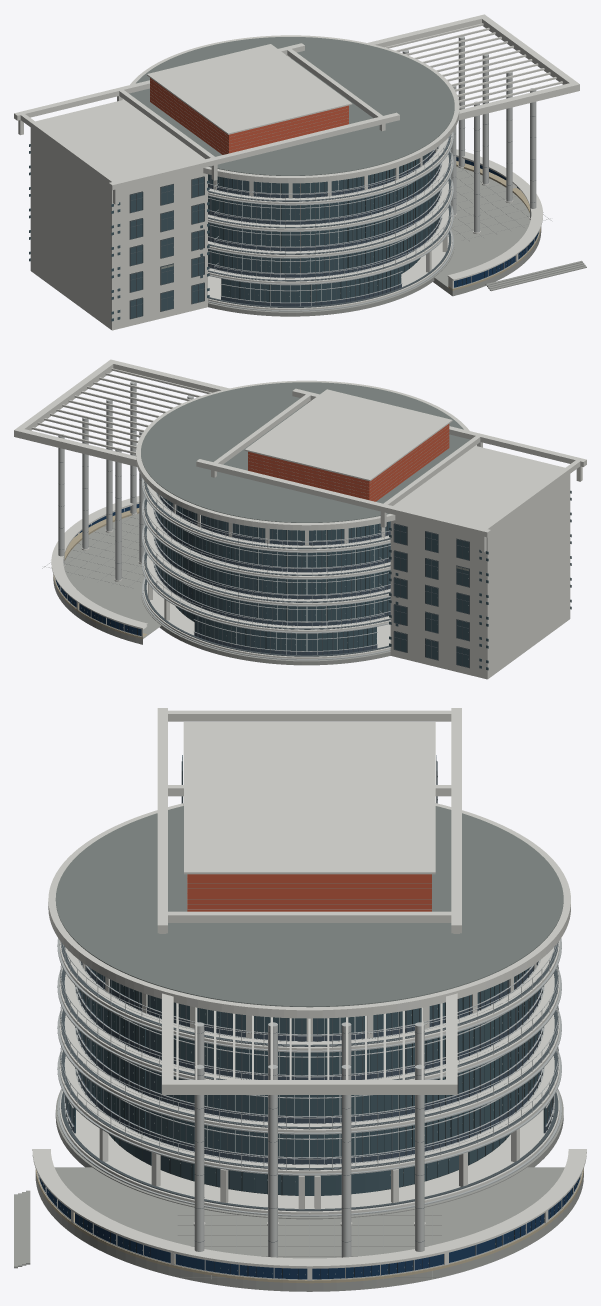
Rendered from osm_way_224950590.glb.
The picture shows the model from 3 angles, top to bottom: view 1: azimuth 30°, elevation 25°; view 2: azimuth 150°, elevation 25°; view 3: azimuth 270°, elevation 25°; orthographic projection. The views are drawn at different scales.
Parts seen in each view (by area): view 1: Round hall | curved plinth drum and tall colonnade, Round hall | continuous segmented curtain wall, Round hall | fine frames cornices and column joints, EXTERIOR::osm_way_224950590::native pane seals and hardware; view 2: Round hall | curved plinth drum and tall colonnade, Round hall | continuous segmented curtain wall, Round hall | fine frames cornices and column joints, EXTERIOR::osm_way_224950590::native pane seals and hardware; view 3: Round hall | curved plinth drum and tall colonnade, Round hall | continuous segmented curtain wall, Round hall | fine frames cornices and column joints, EXTERIOR::osm_way_224950590::native pane seals and hardware.
Boxes of the visible parts, x1,y1,x2,y2 form: Round hall | curved plinth drum and tall colonnade: [14, 14, 586, 330]; Round hall | continuous segmented curtain wall: [29, 144, 538, 321]; Round hall | fine frames cornices and column joints: [150, 42, 551, 311]; EXTERIOR::osm_way_224950590::native pane seals and hardware: [161, 160, 537, 301]; Round hall | curved plinth drum and tall colonnade: [14, 359, 586, 679]; Round hall | continuous segmented curtain wall: [56, 490, 571, 670]; Round hall | fine frames cornices and column joints: [42, 426, 448, 660]; EXTERIOR::osm_way_224950590::native pane seals and hardware: [58, 499, 468, 659]; Round hall | curved plinth drum and tall colonnade: [14, 708, 583, 1291]; Round hall | continuous segmented curtain wall: [39, 755, 579, 1279]; Round hall | fine frames cornices and column joints: [32, 874, 586, 1279]; EXTERIOR::osm_way_224950590::native pane seals and hardware: [38, 776, 579, 1279].
Bounding box in the file's own units: 68.48 × 23.81 × 46.81.
